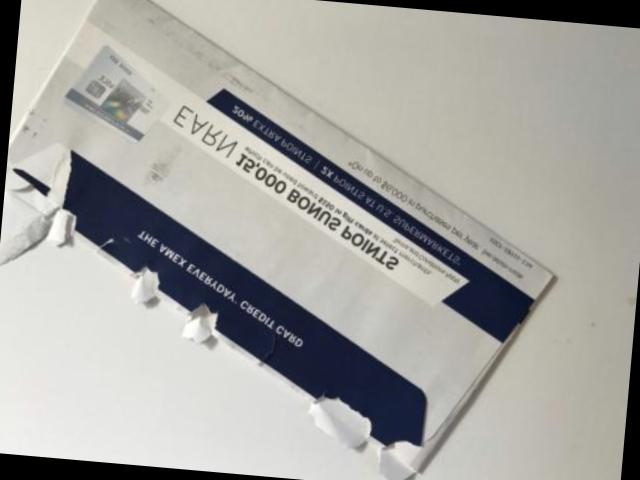cardboard paper: (0, 0, 548, 480)
